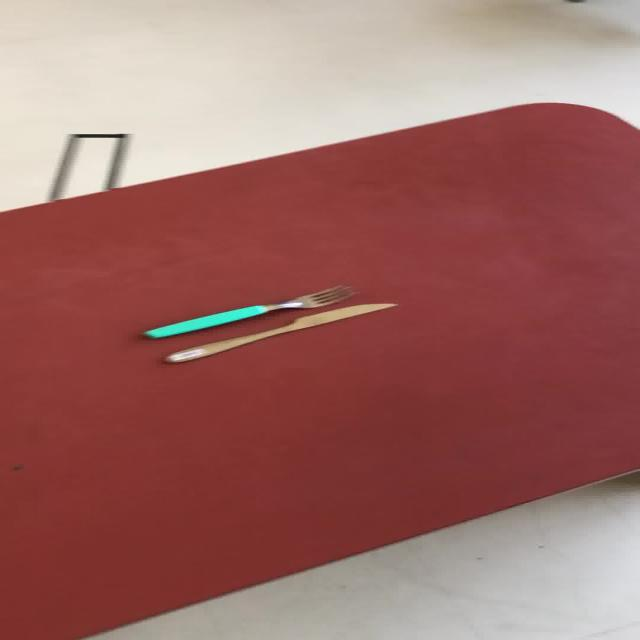fork: (141, 284, 356, 339)
knife fork: (161, 301, 398, 364)
